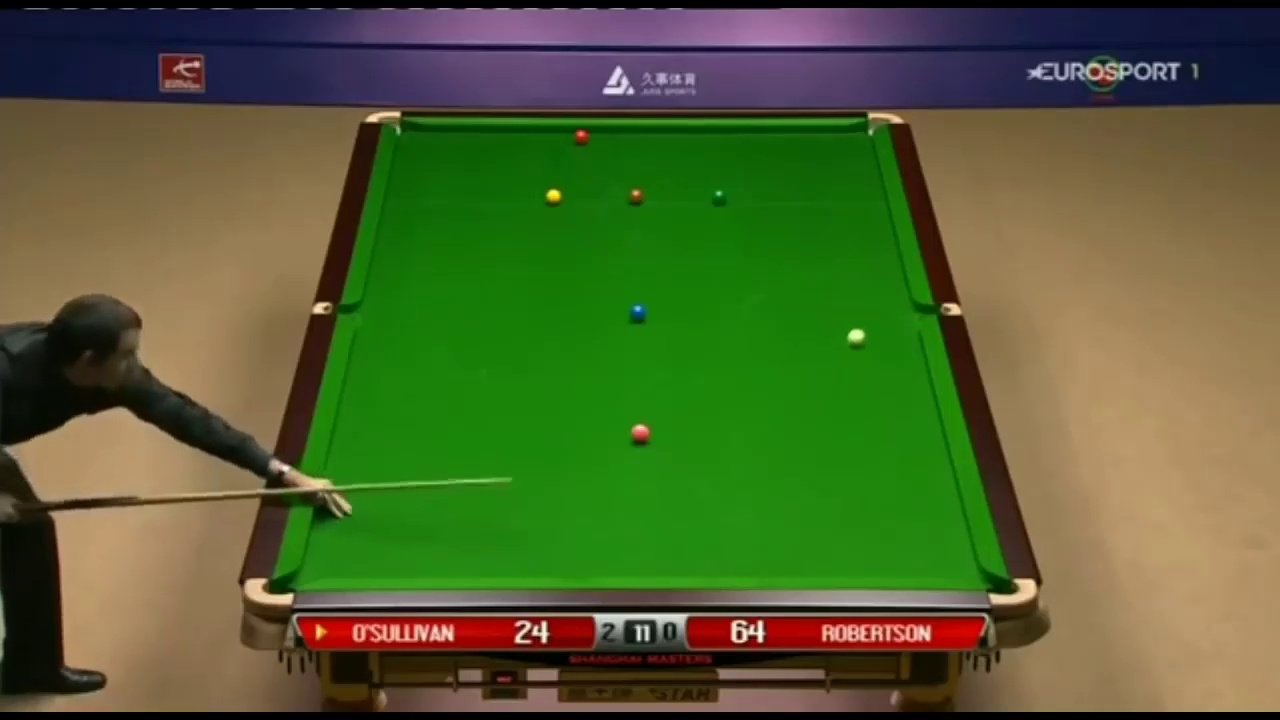ball: (627, 422, 650, 446), (844, 325, 865, 347), (626, 303, 646, 320), (623, 187, 642, 204), (544, 187, 561, 205), (708, 189, 723, 204), (572, 129, 588, 141)
